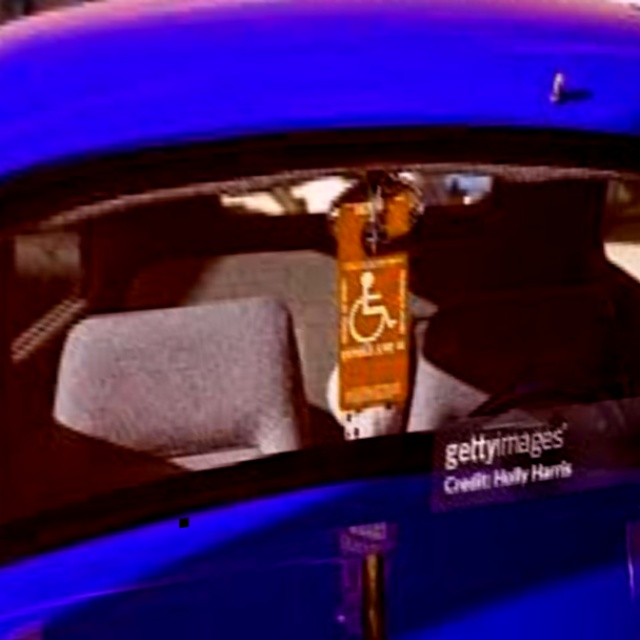ISA: (351, 272, 395, 344)
